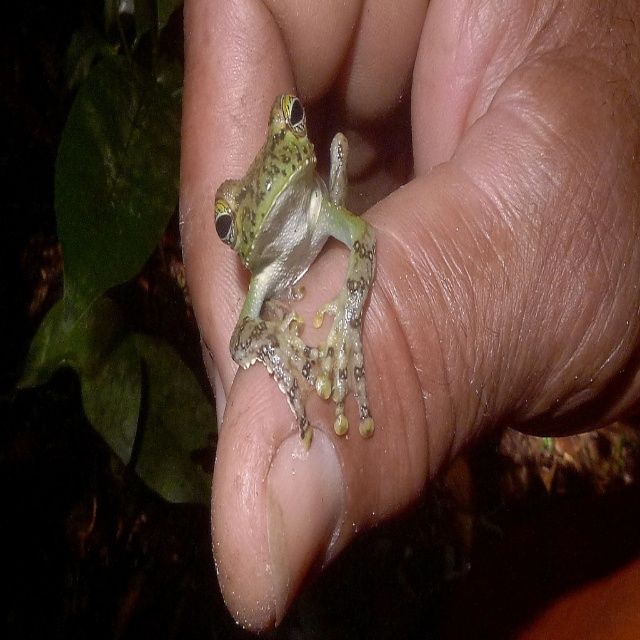Frog: (212, 88, 374, 440)
